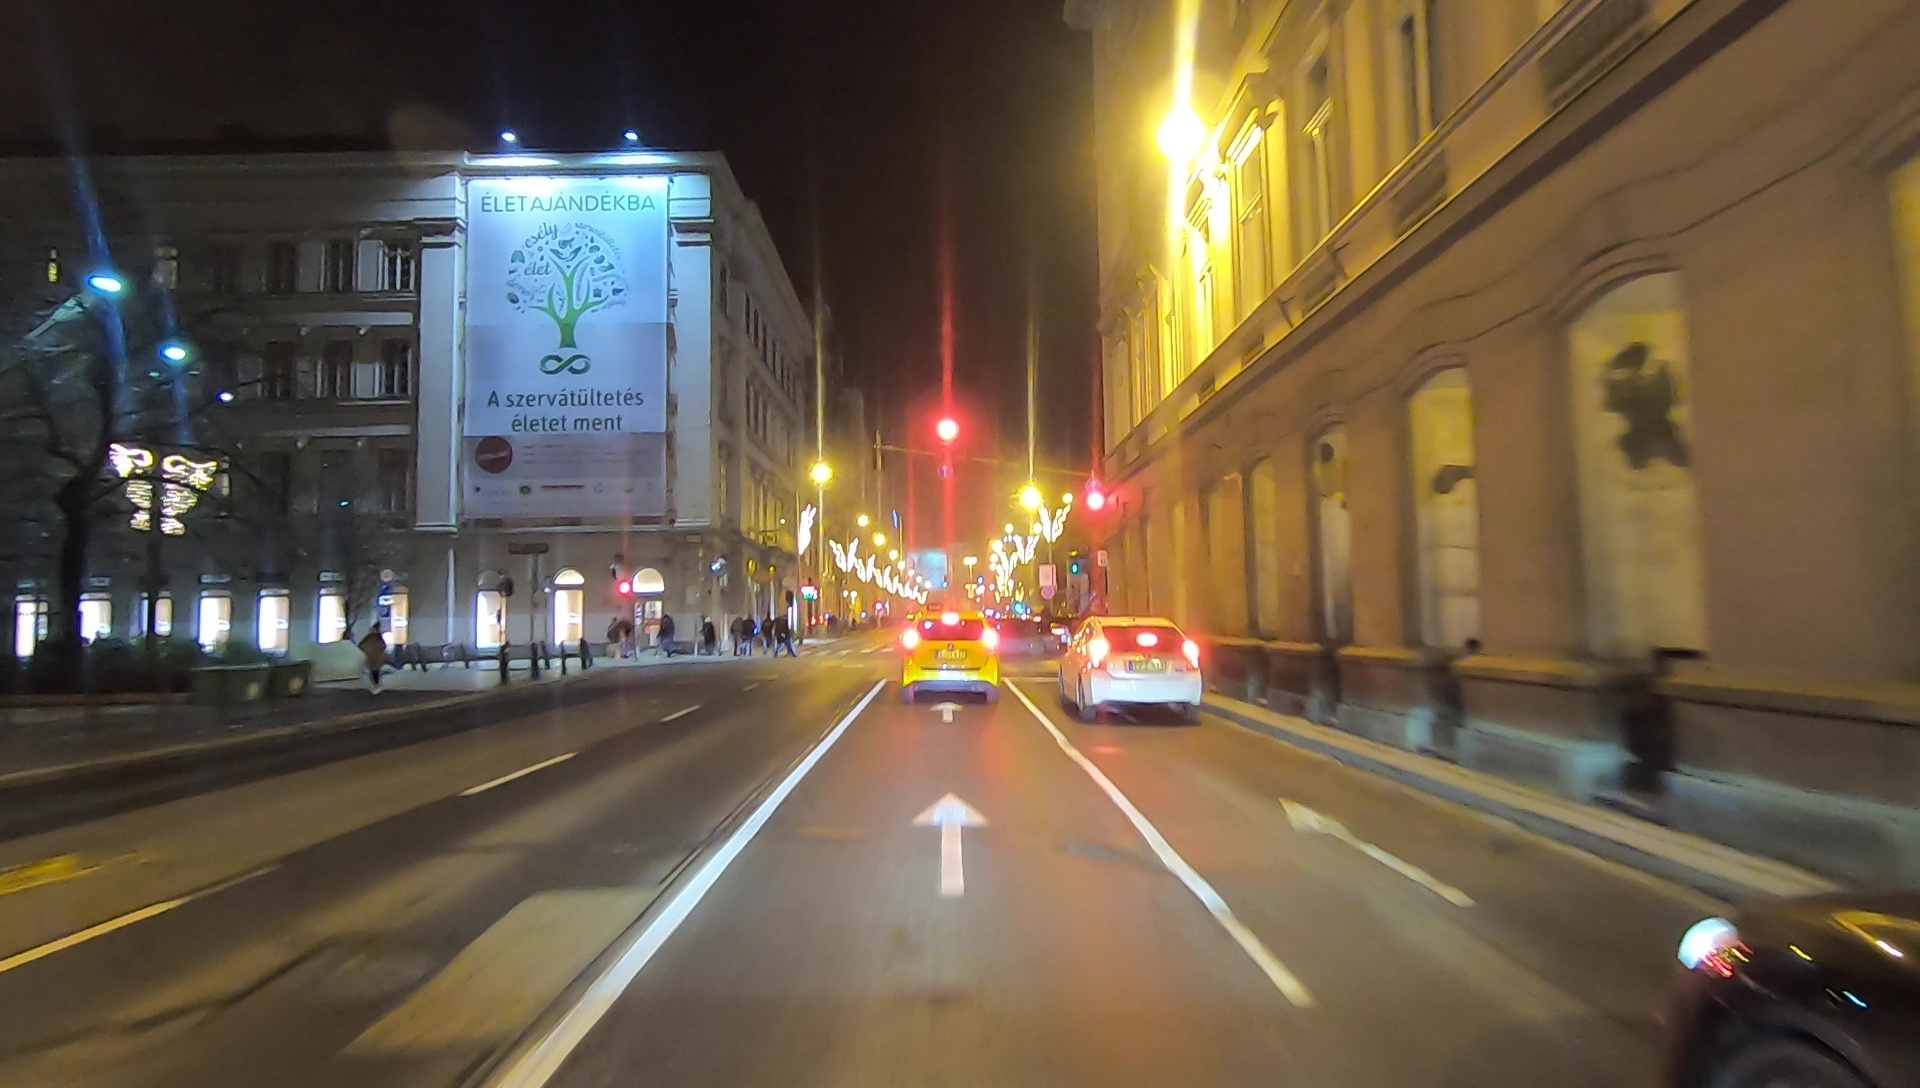person: (358, 624, 386, 695), (769, 611, 797, 660), (734, 610, 758, 660), (606, 615, 630, 660), (734, 615, 758, 660), (656, 611, 675, 658), (695, 615, 715, 660)
